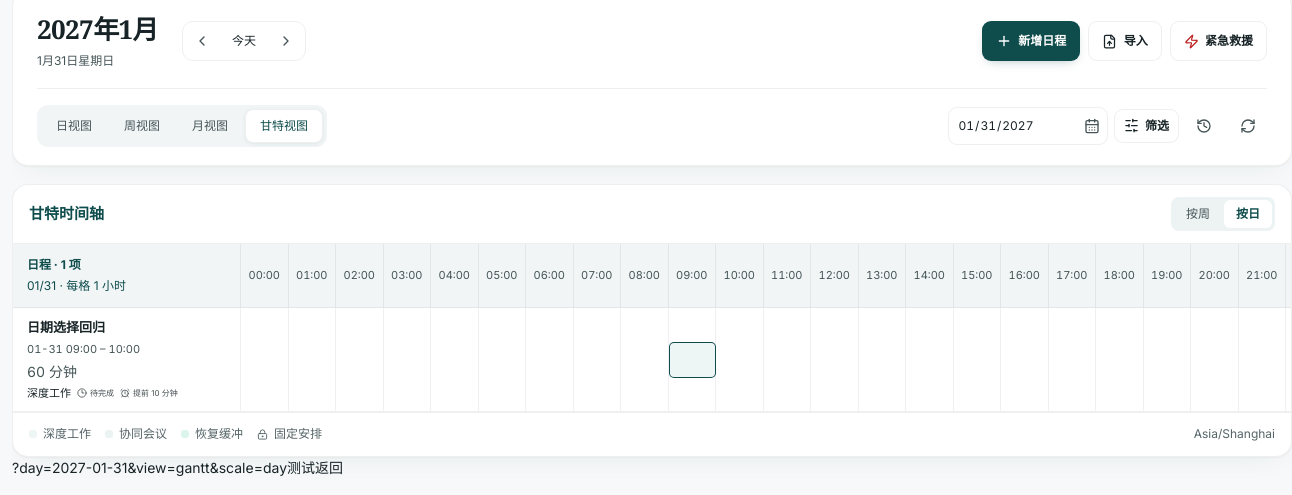
keeps the gantt scale and typed jump date in shared navigation state
This screenshot has width=1292, height=495.
Check: the element "甘特时间轴" is shown, box [12, 184, 1291, 457]
Click the button named "下一天": [286, 41] box [270, 25, 302, 57]
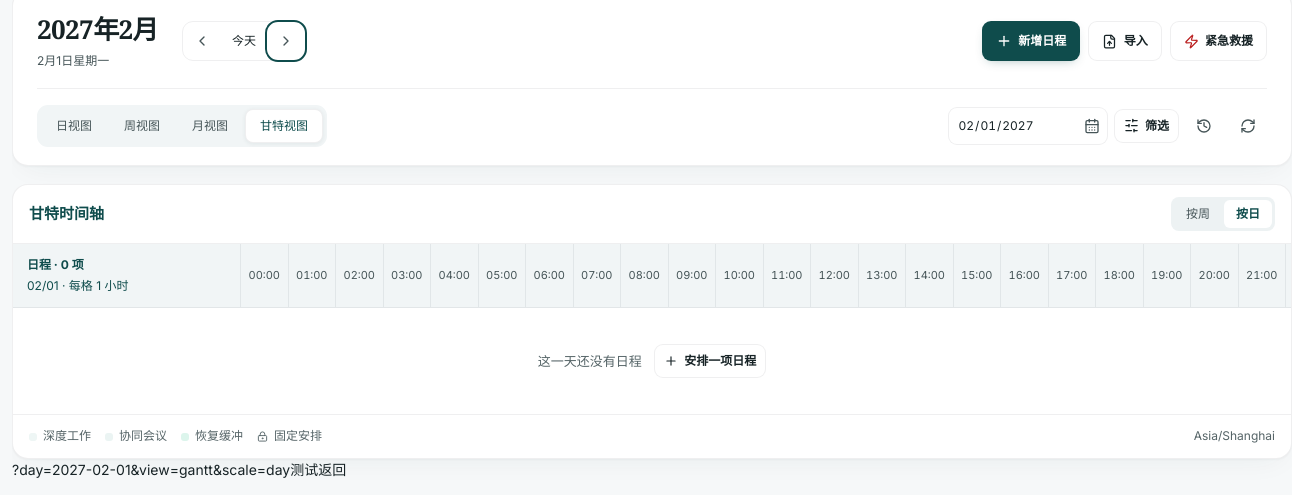
Check: the date field named "跳转日期" holds "2027-02-01"
In the date field named "跳转日期": [1012, 126] box [948, 107, 1076, 145], type "2027-03-05"
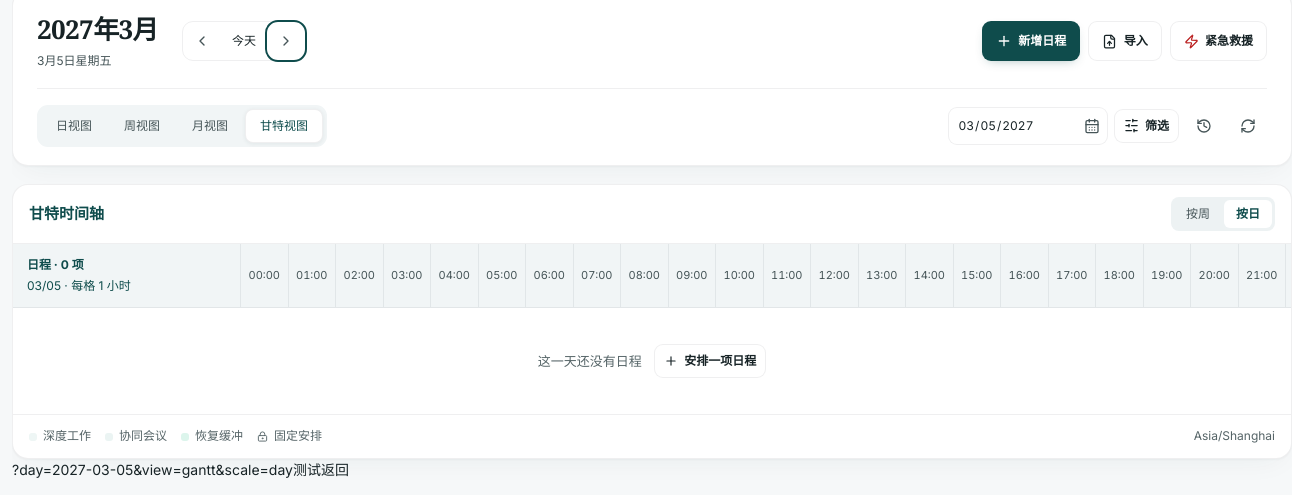
Check: the text named "日历地址" shows "scale=day", box [12, 461, 293, 478]
Check: the text named "日历地址" shows "day=2027-03-05", box [12, 461, 293, 478]
